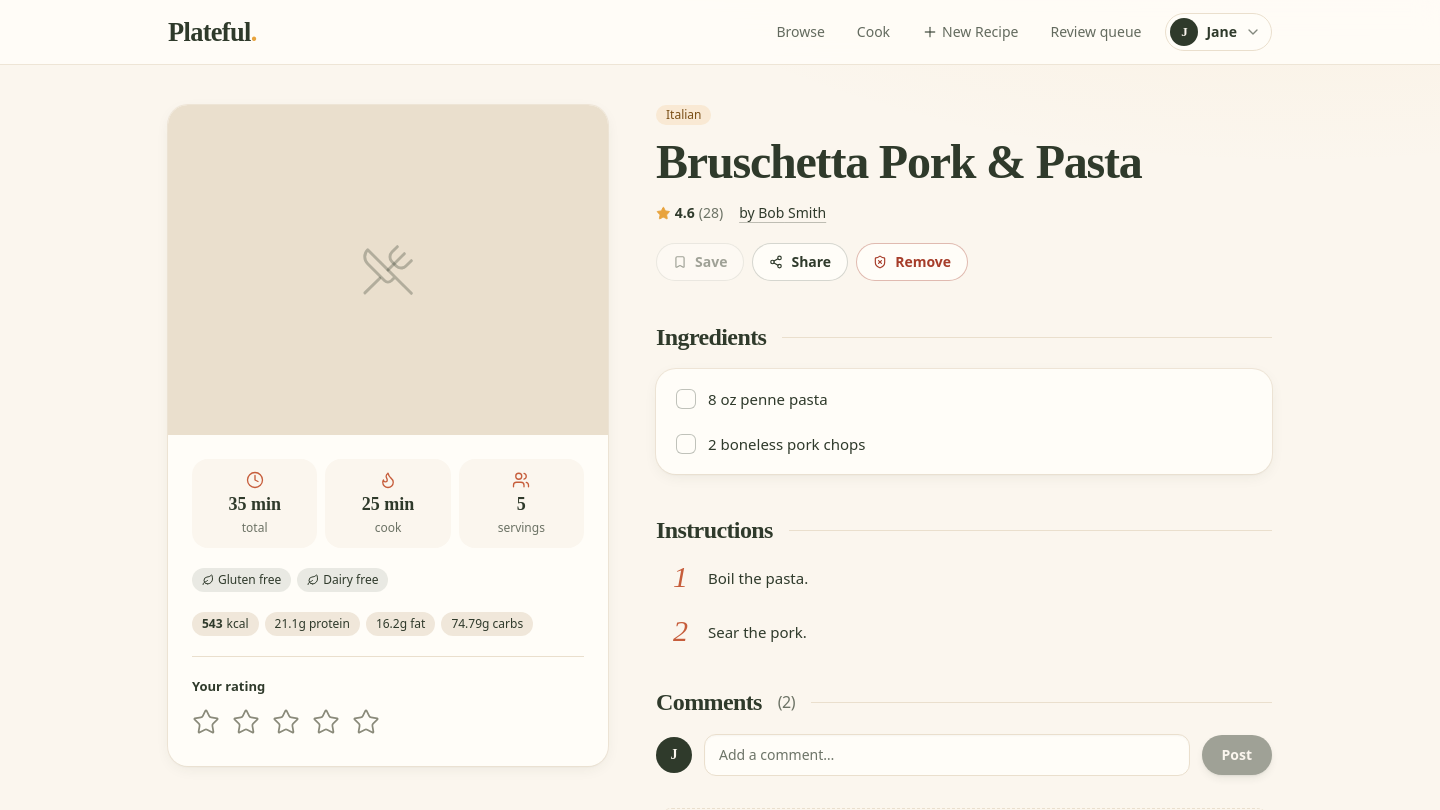
it: removing a recipe › a 403 for missing two-factor setup says how to fix it
This screenshot has width=1440, height=810.
Click the button "Remove" at (912, 262), box [856,243,968,281]
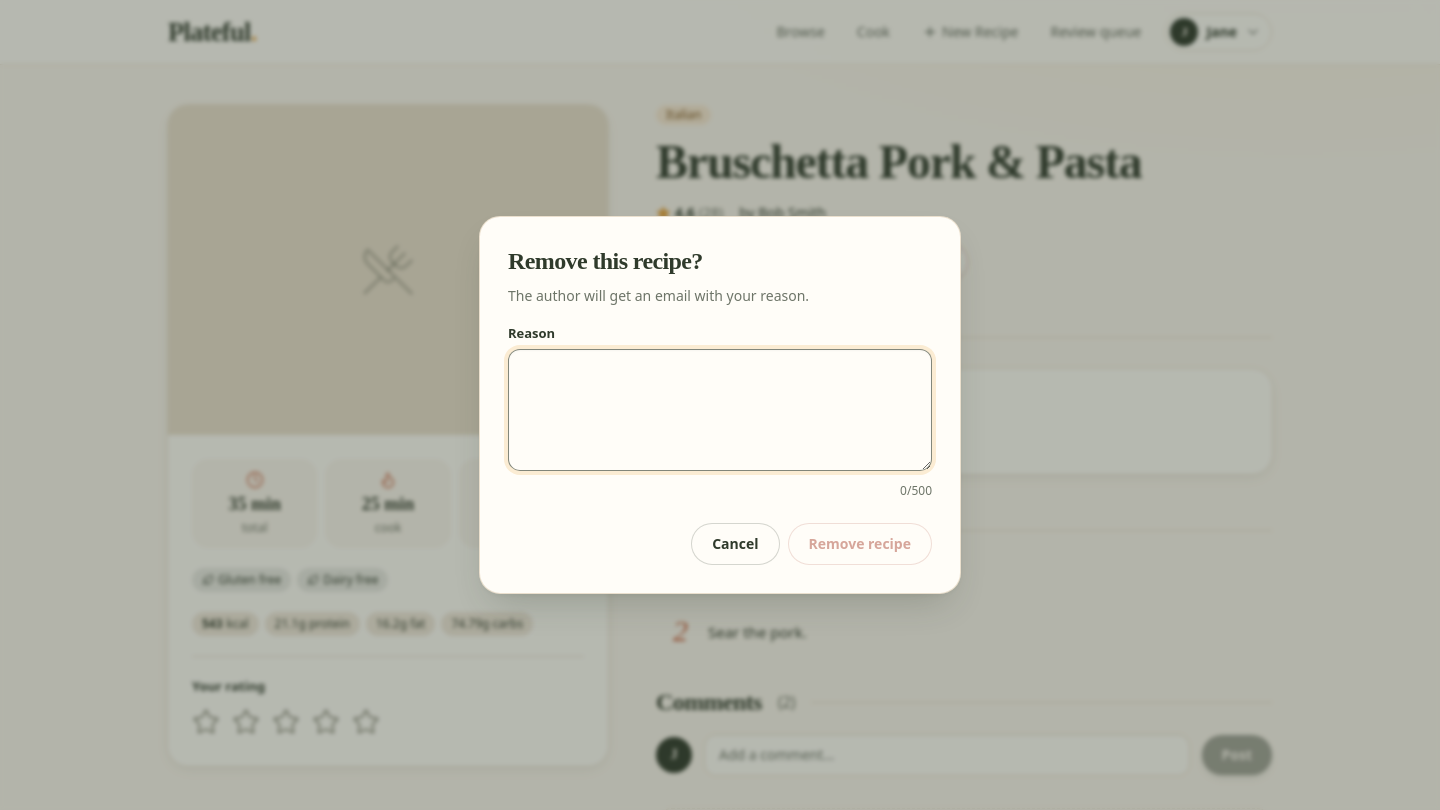
Type "Spam" into the text box labelled "Reason" at (720, 410), box [508,349,932,471]
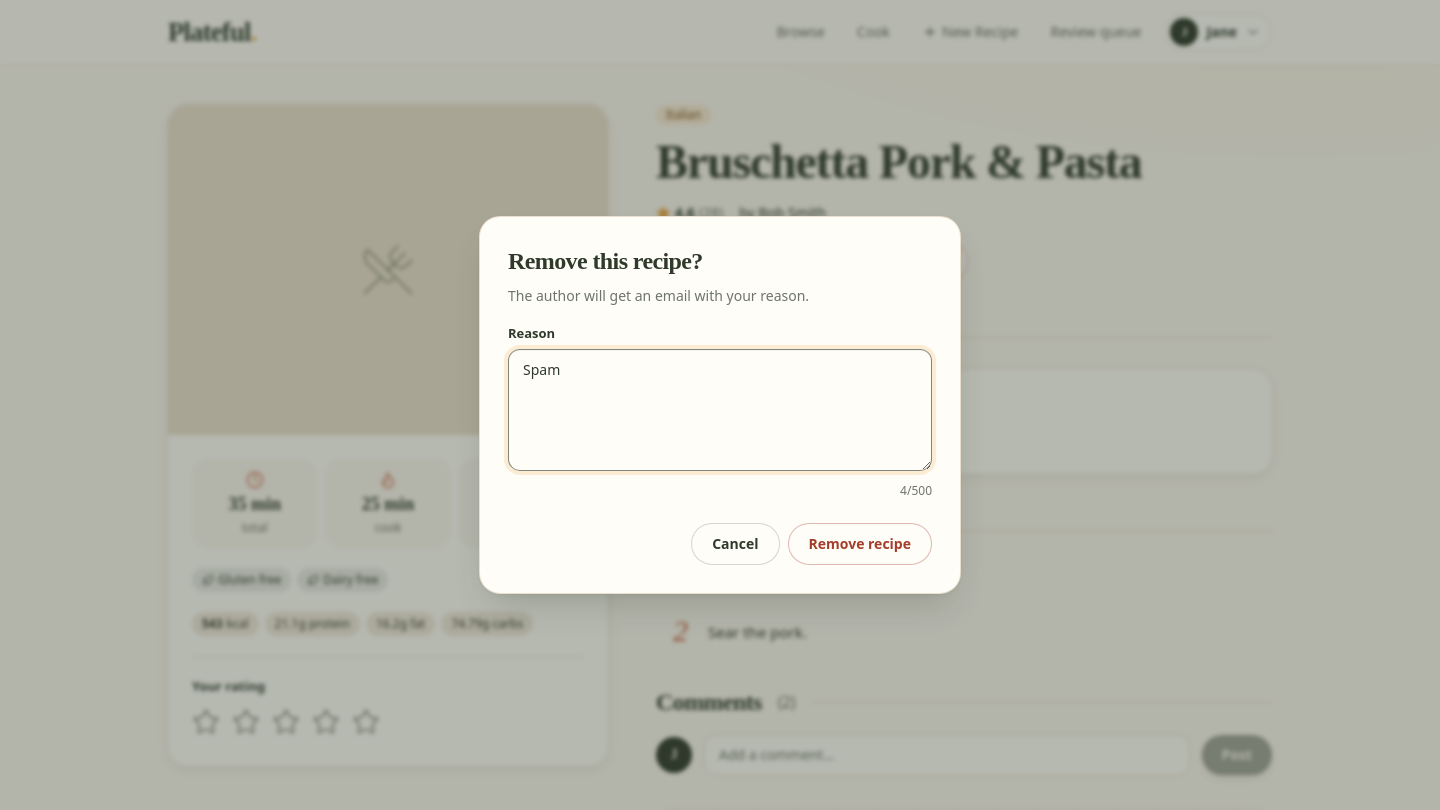
Click the button "Remove recipe" at (860, 544), box [788,523,932,565]
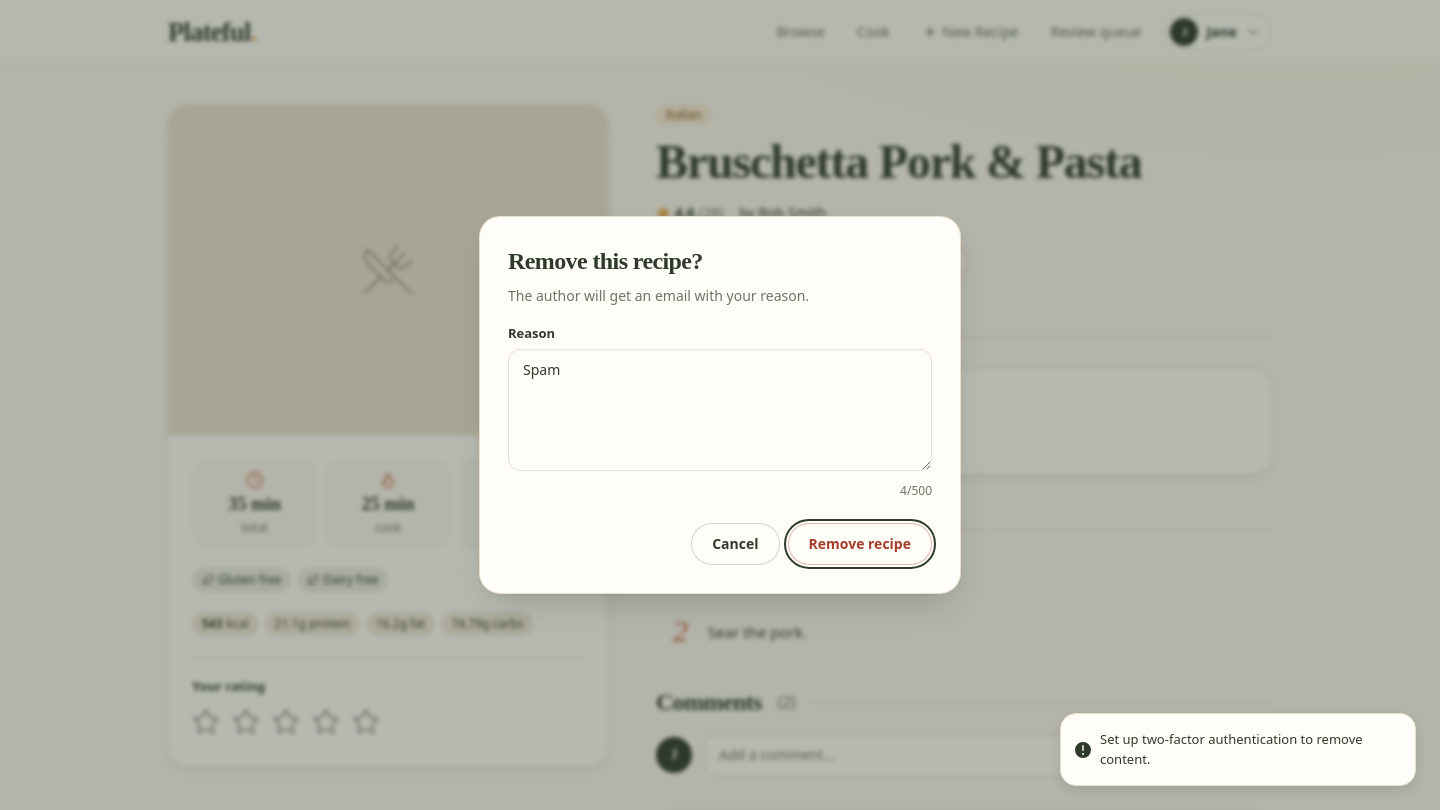
Expected: the text "Set up two-factor authentication to remove content." is shown, [1100,730,1399,769]
